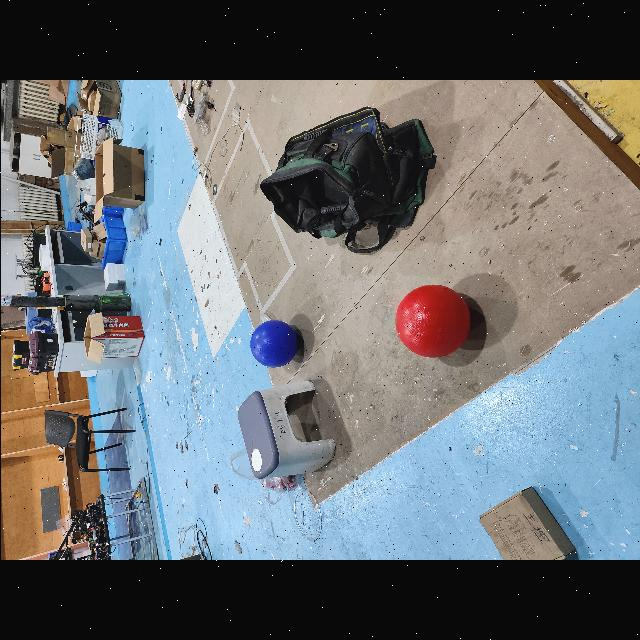B: (248, 320, 298, 368)
R: (392, 282, 472, 358)
